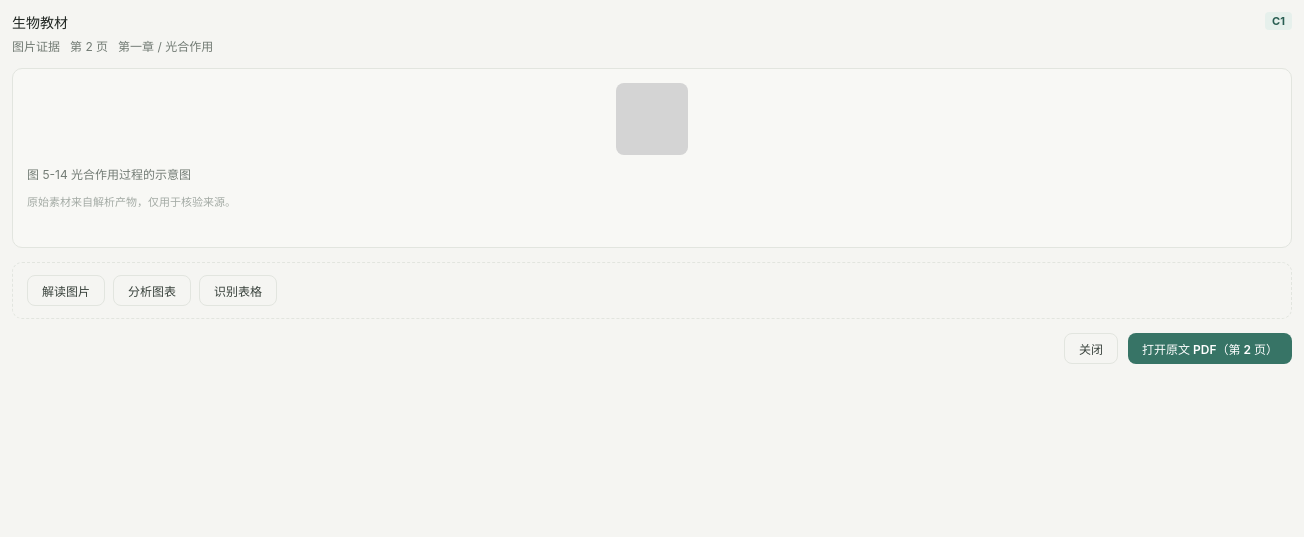
Test case: AssetPreviewDialog › keeps the original image visible when the provider fails
Click the button "识别表格" at (238, 290), box [199,275,277,306]
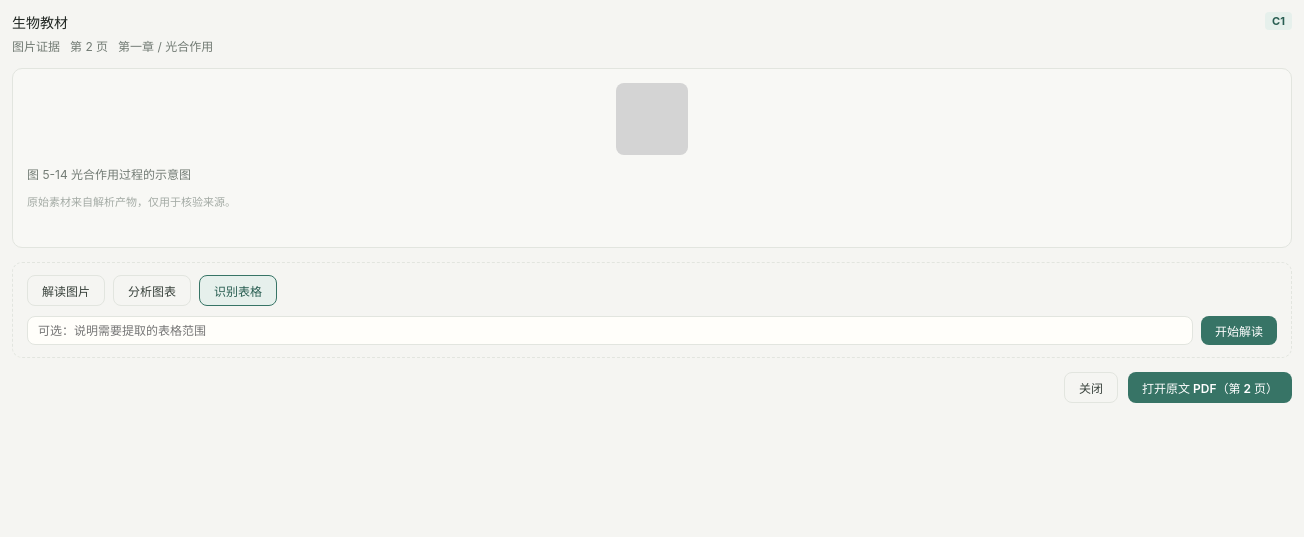
Click the button "开始解读" at (1239, 330), box [1201,316,1277,345]
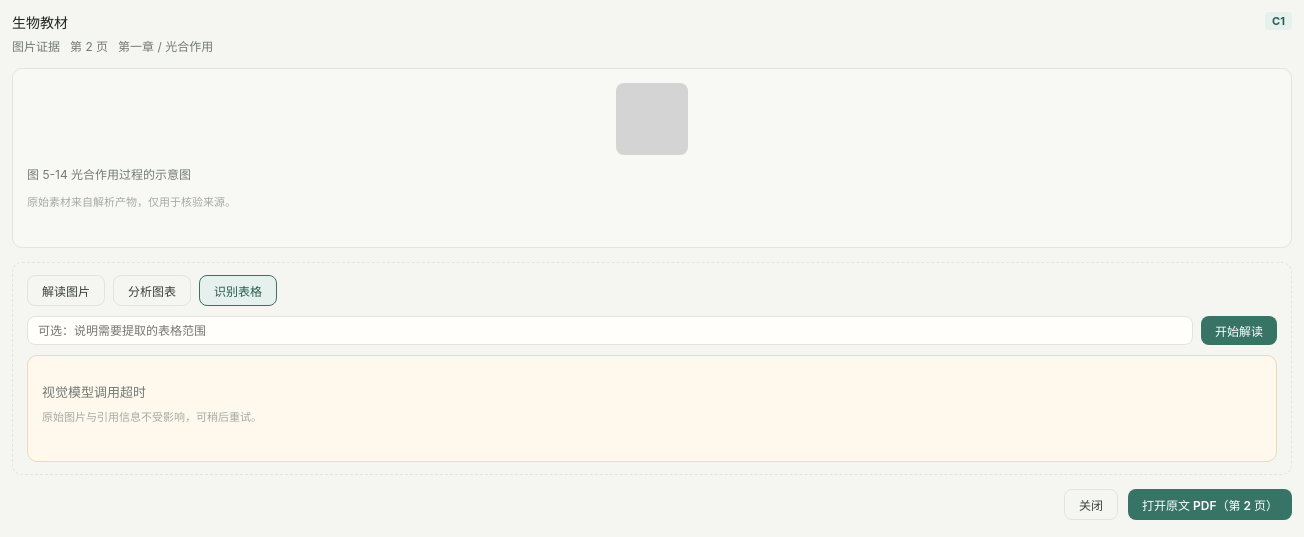
Check: the text "视觉模型调用超时" is shown, box [42,384,146,400]
